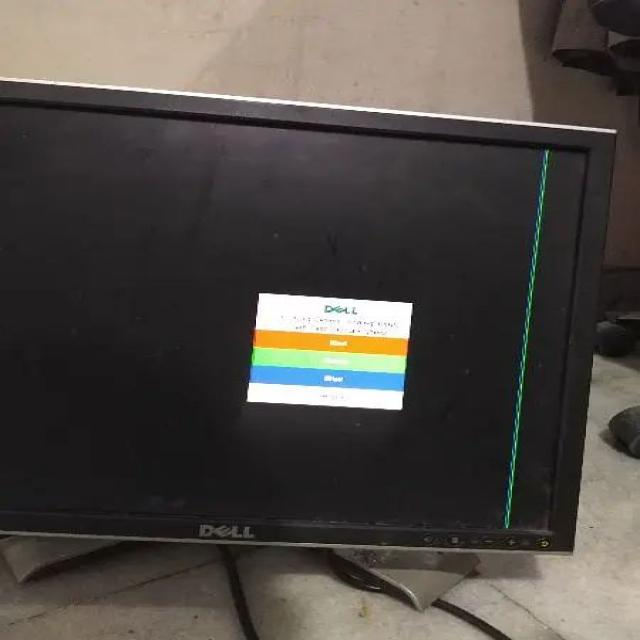electronic: (0, 75, 617, 558)
